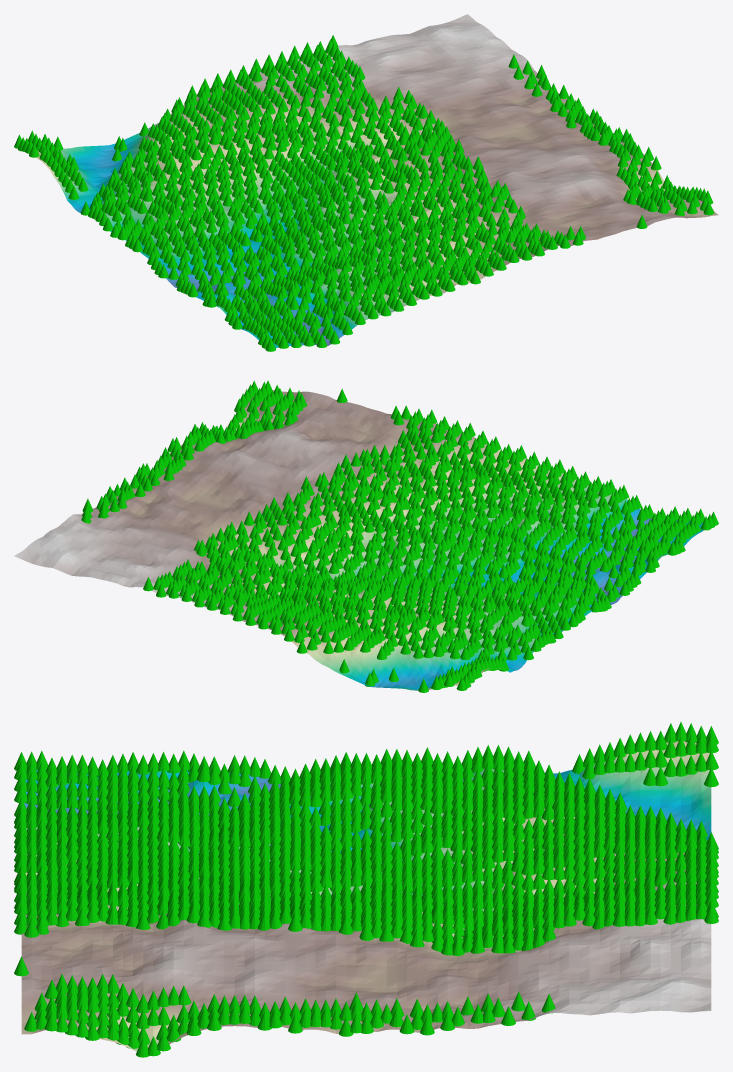
Rendered from 004303_with_tree.glb.
3 views of the same model, one above another, from view 1: azimuth 30°, elevation 25°; view 2: azimuth 150°, elevation 25°; view 3: azimuth 270°, elevation 25° (orthographic). The views are drawn at different scales.
Parts seen in each view (by area): view 1: trees, terrain; view 2: trees, terrain; view 3: trees, terrain.
Part boxes in pixels (<box>): trees: <box>14,35,713,351</box>; terrain: <box>36,14,718,347</box>; trees: <box>81,380,718,692</box>; terrain: <box>14,390,703,690</box>; trees: <box>14,722,718,1057</box>; terrain: <box>21,740,711,1051</box>.
Bounding box in the file's own units: 0.0193 × 0.00261 × 0.0187.
